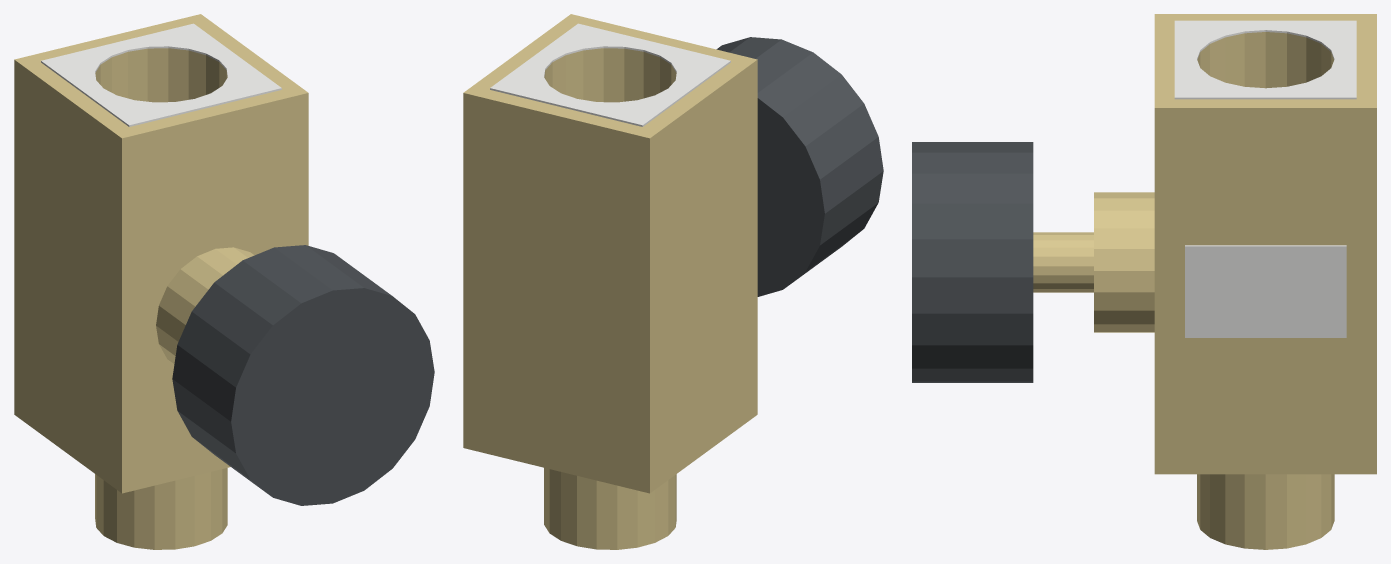
Rendered from valve-gauge.glb.
3 renders of one model, left to right at view 1: azimuth 30°, elevation 25°; view 2: azimuth 150°, elevation 25°; view 3: azimuth 270°, elevation 25°, orthographic. The views are drawn at different scales.
Visible parts, largest first — view 1: body, knob, port-1, port-2; view 2: body, knob, port-1, port-2; view 3: body, knob, port-1, port-2.
Boxes of the visible parts, x1=… form: body: x1=14, y1=14, x2=308, y2=493; knob: x1=172, y1=245, x2=434, y2=505; port-1: x1=95, y1=468, x2=227, y2=549; port-2: x1=41, y1=23, x2=281, y2=126; body: x1=463, y1=14, x2=757, y2=493; knob: x1=716, y1=37, x2=883, y2=296; port-1: x1=544, y1=468, x2=676, y2=549; port-2: x1=490, y1=23, x2=730, y2=126; body: x1=1094, y1=14, x2=1376, y2=474; knob: x1=912, y1=142, x2=1093, y2=382; port-1: x1=1197, y1=474, x2=1334, y2=549; port-2: x1=1174, y1=20, x2=1356, y2=99.
Size of what is drawn, in the model's own units: 0.024 by 0.0504 by 0.046.
